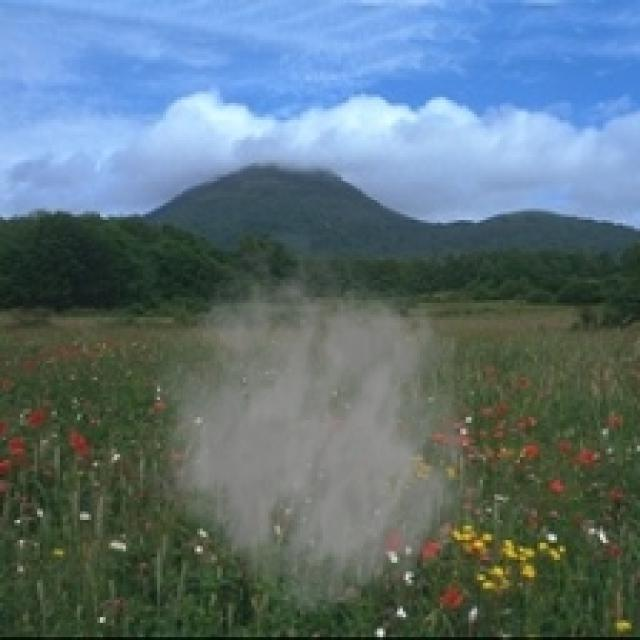smoke: (134, 226, 483, 617)
